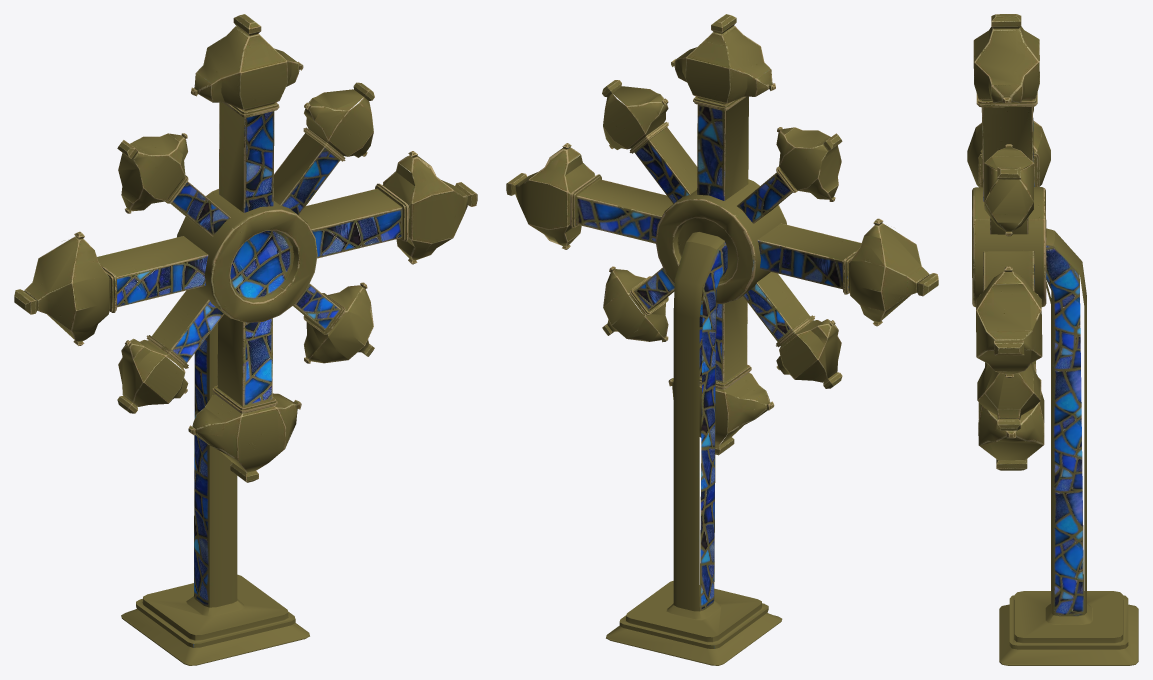
The model's file is rotatingLeverWhole_lowPoly.glb.
The picture shows the model from 3 angles, left to right: view 1: azimuth 30°, elevation 25°; view 2: azimuth 150°, elevation 25°; view 3: azimuth 270°, elevation 25°; orthographic projection. The views are drawn at different scales.
Parts seen in each view (by area): view 1: Mesh_1; view 2: Mesh_1; view 3: Mesh_1.
Part boxes in pixels (left/top/right/bottom): Mesh_1: left=14, top=14, right=477, bottom=665; Mesh_1: left=506, top=14, right=938, bottom=665; Mesh_1: left=967, top=14, right=1138, bottom=665.
Bounding box in the file's own units: 0.75 × 1 × 0.25.
Materials: 2 (2 with a texture image).
